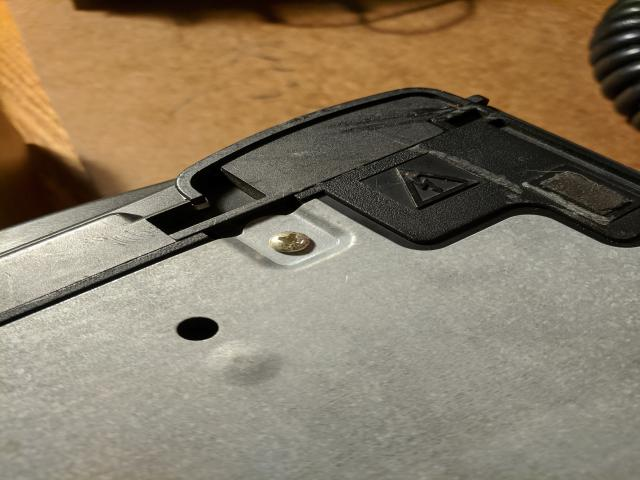CRS: (267, 230, 309, 254)
